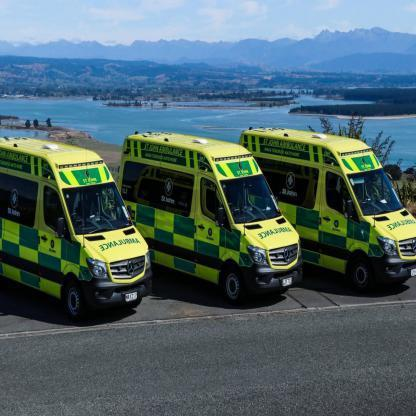Ambulance - v1 Ambulance last generate: (120, 124, 304, 306), (247, 100, 415, 288), (0, 125, 157, 321)
